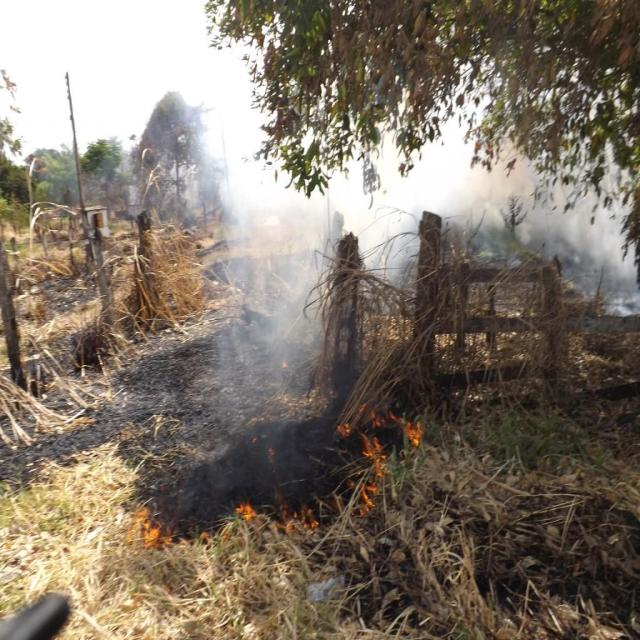Fire: (129, 473, 319, 547), (337, 394, 424, 506)
